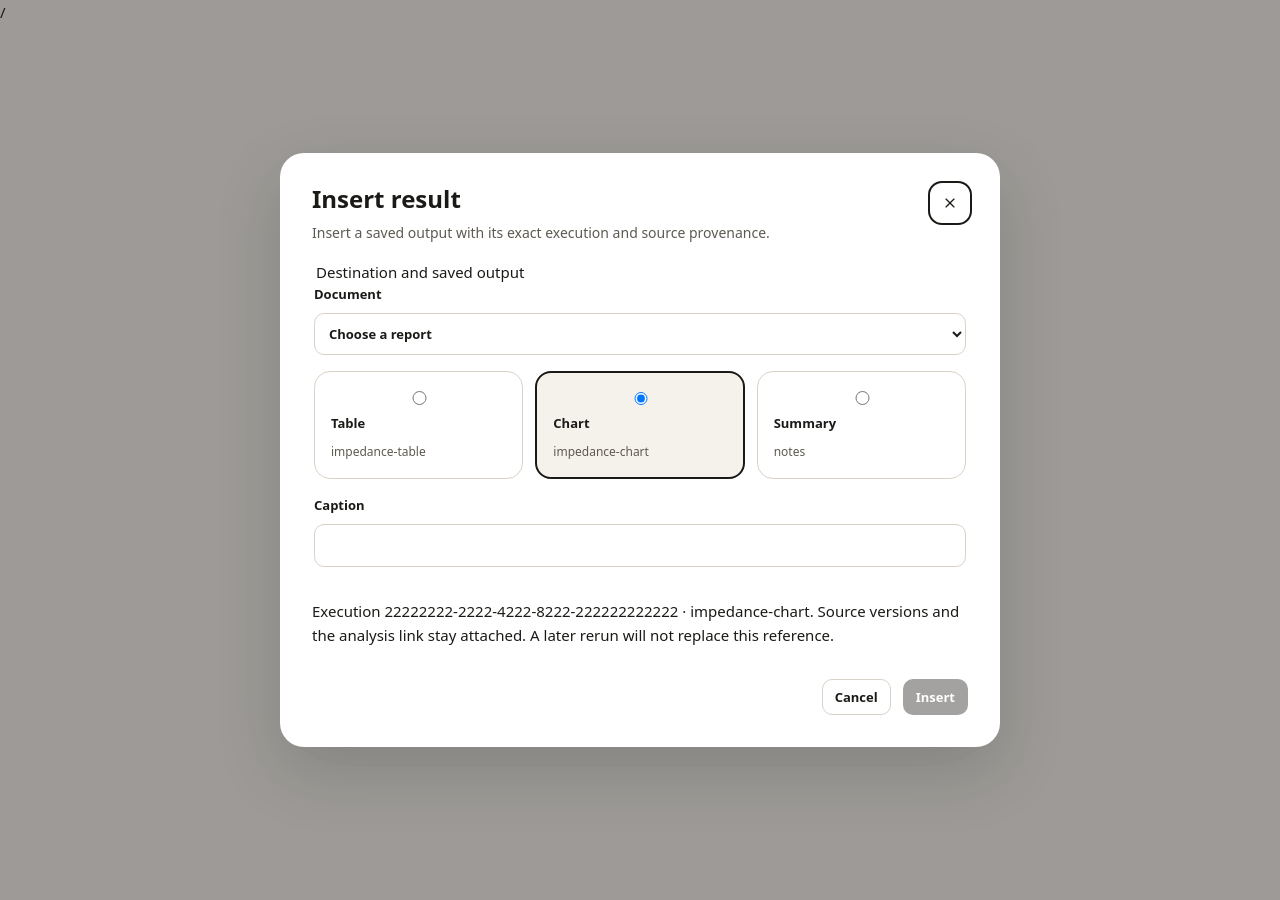
insertion saves a semantic block at the selected position with an optimistic revision, then navigates
The image size is (1280, 900).
Expected: the button "Insert" is disabled, [903,679,968,715]
Select "Experimental report" in the dropdown labelled "Document" at (640, 334), box [314,313,966,355]
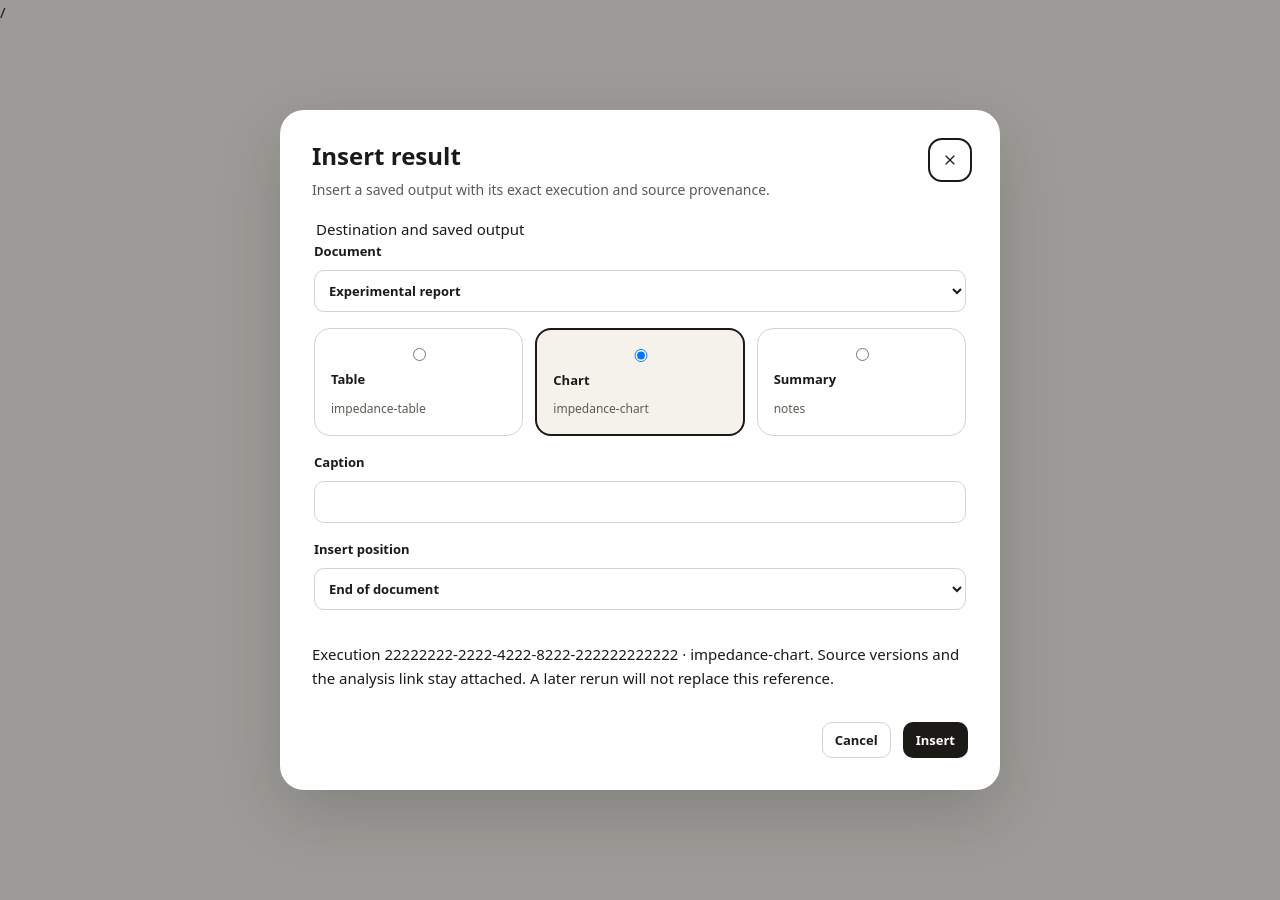
Expected: the button "Insert" is enabled, [903,722,968,758]
Type "<img onerror=evil()>" into the field labelled "Caption" at (640, 502), box [314,481,966,523]
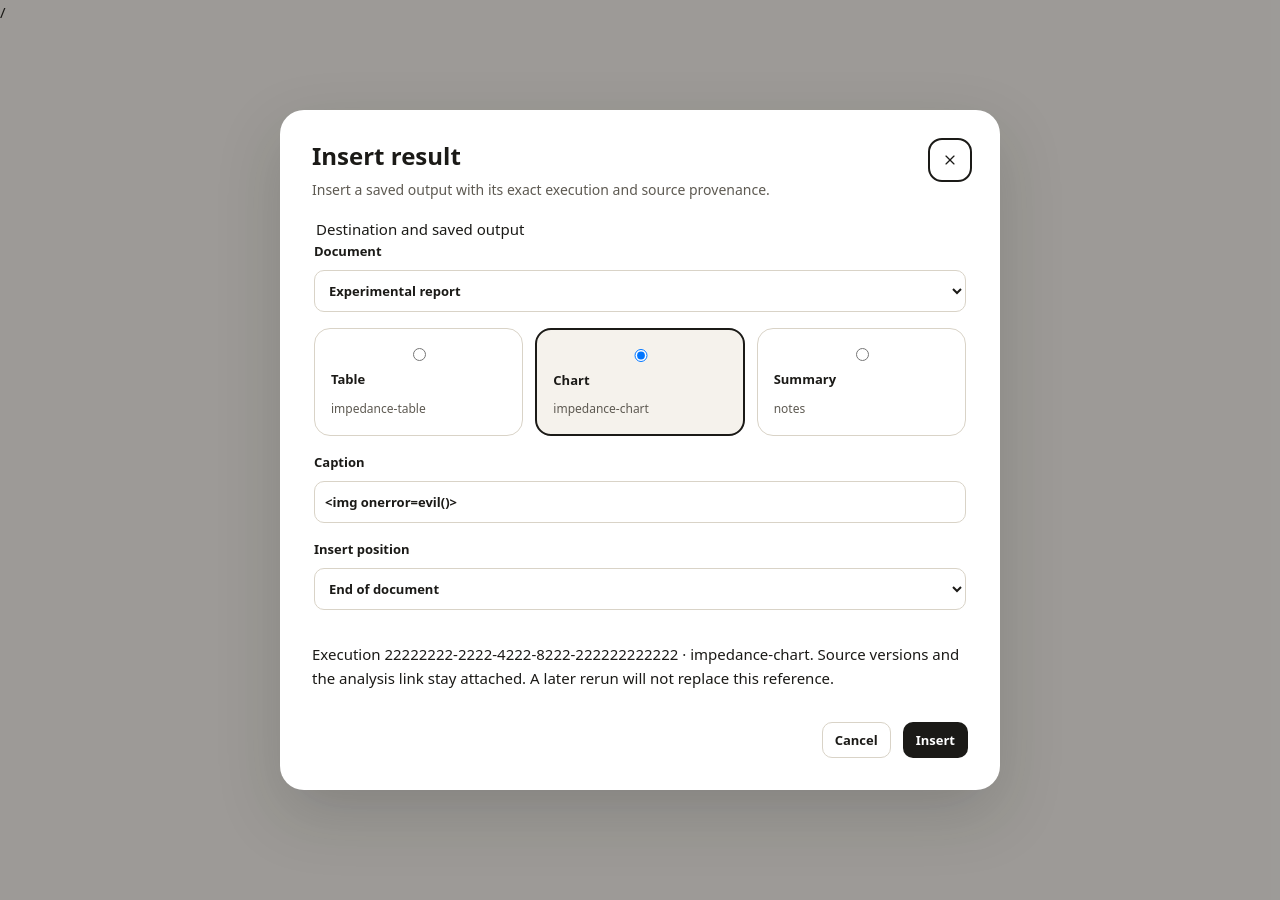
Select "Before block 1 · Findings" in the dropdown labelled "Insert position" at (640, 589), box [314,568,966,610]
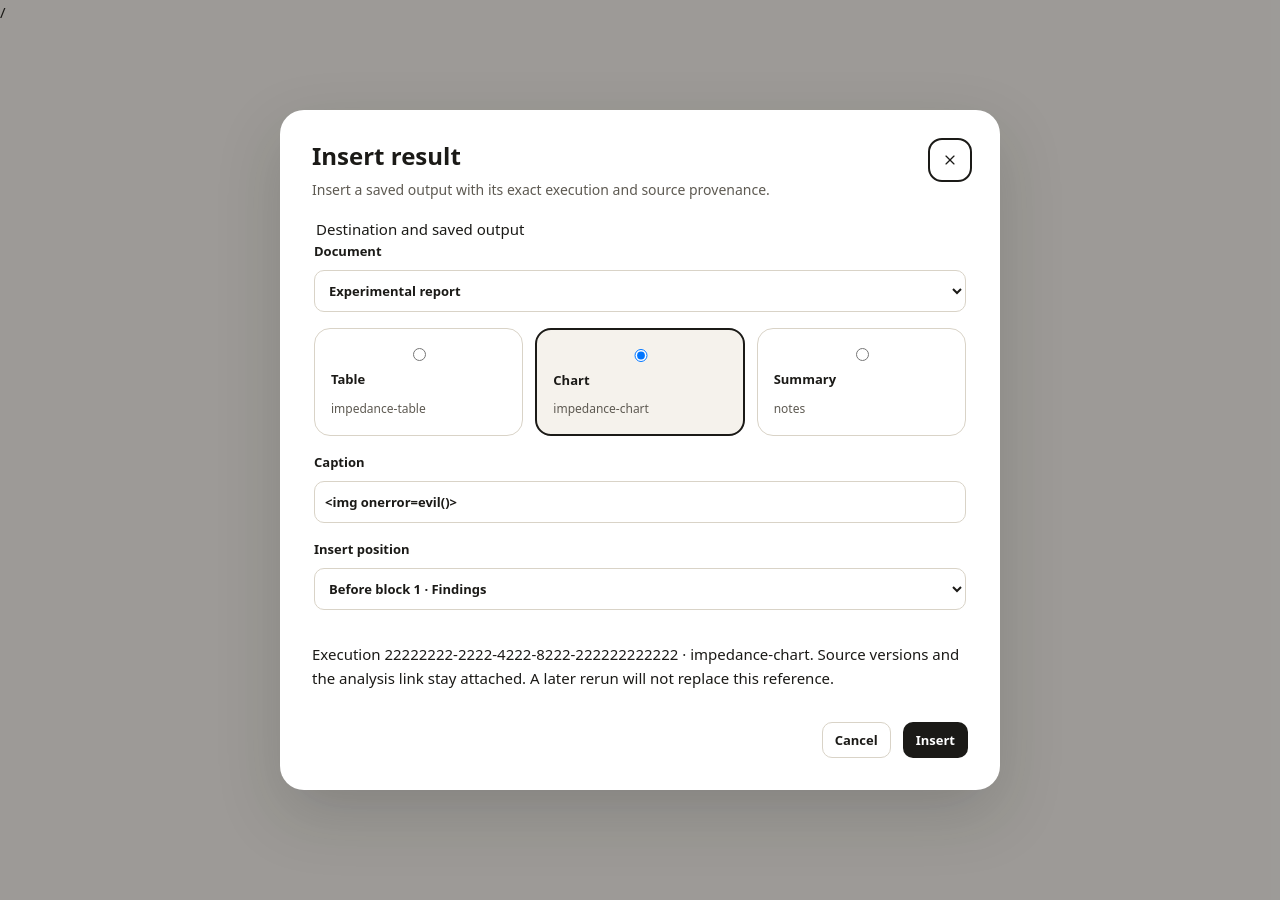
Click the button "Insert" at (935, 740), box [903,722,968,758]
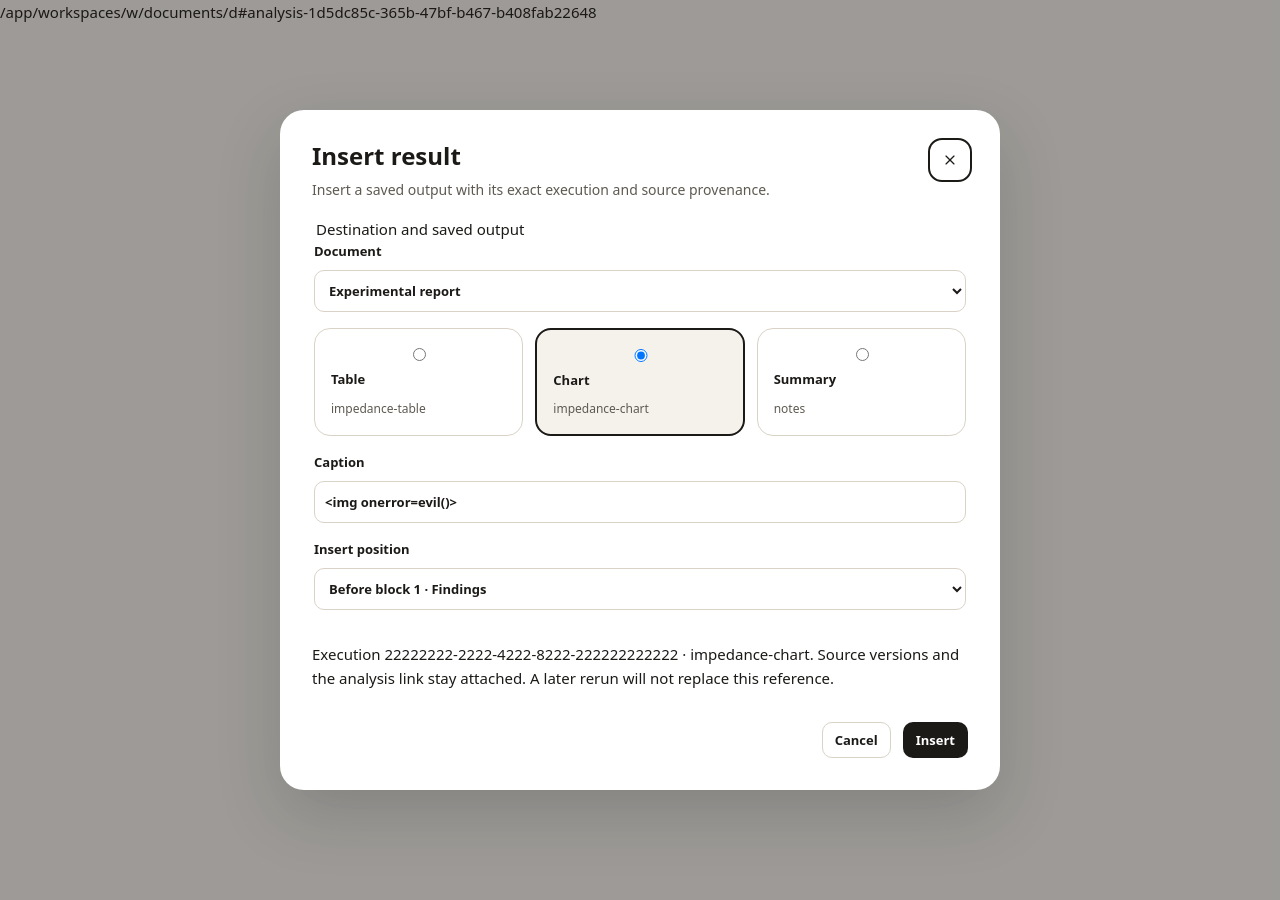
Expected: the text named "Location" shows "/app/workspaces/w/documents/d#analysis-", [0,2,597,22]
